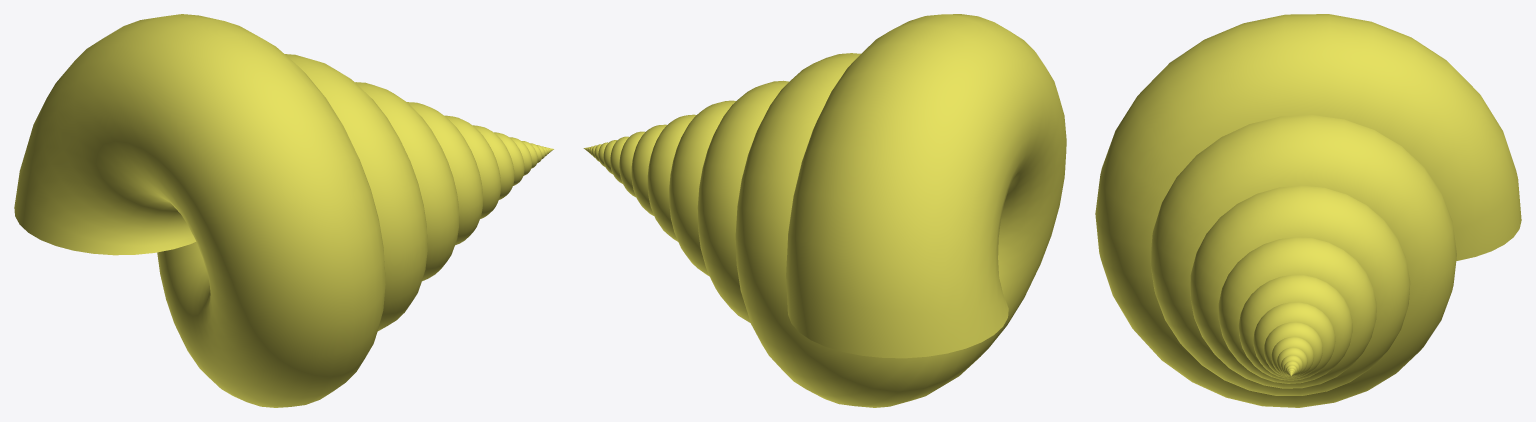
3 renders of one model, left to right at view 1: azimuth 30°, elevation 25°; view 2: azimuth 150°, elevation 25°; view 3: azimuth 270°, elevation 25°, orthographic. The views are drawn at different scales.
Parts seen in each view (by area): view 1: t17; view 2: t17; view 3: t17.
Part boxes in pixels (<box>): t17: <box>14,14,553,407</box>; t17: <box>583,14,1066,407</box>; t17: <box>1095,14,1521,407</box>.
Size of the model in its own units: 500 by 378 by 412.
